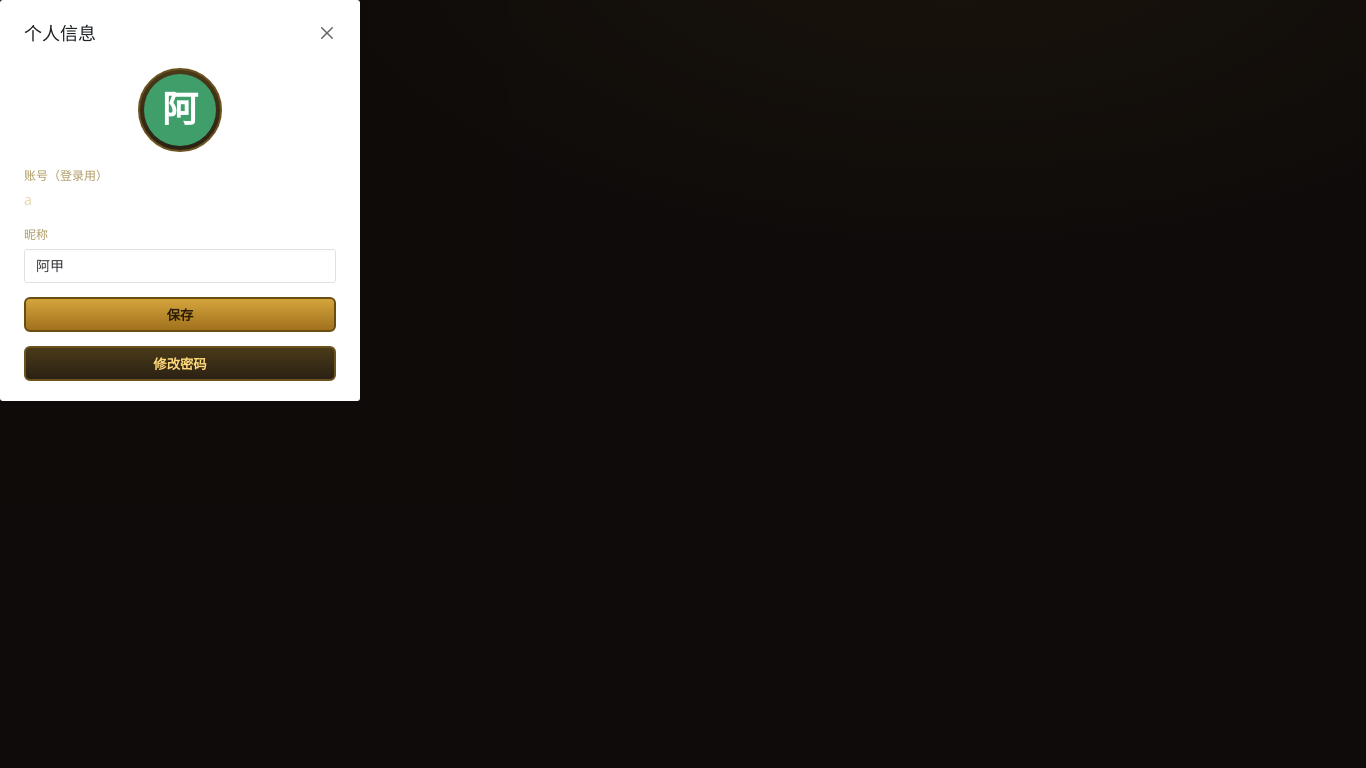
Test: ProfilePanel › 非法昵称不调接口并显示错误
Replace the text in the field with "带空格 名" at (180, 266), box [36, 249, 324, 283]
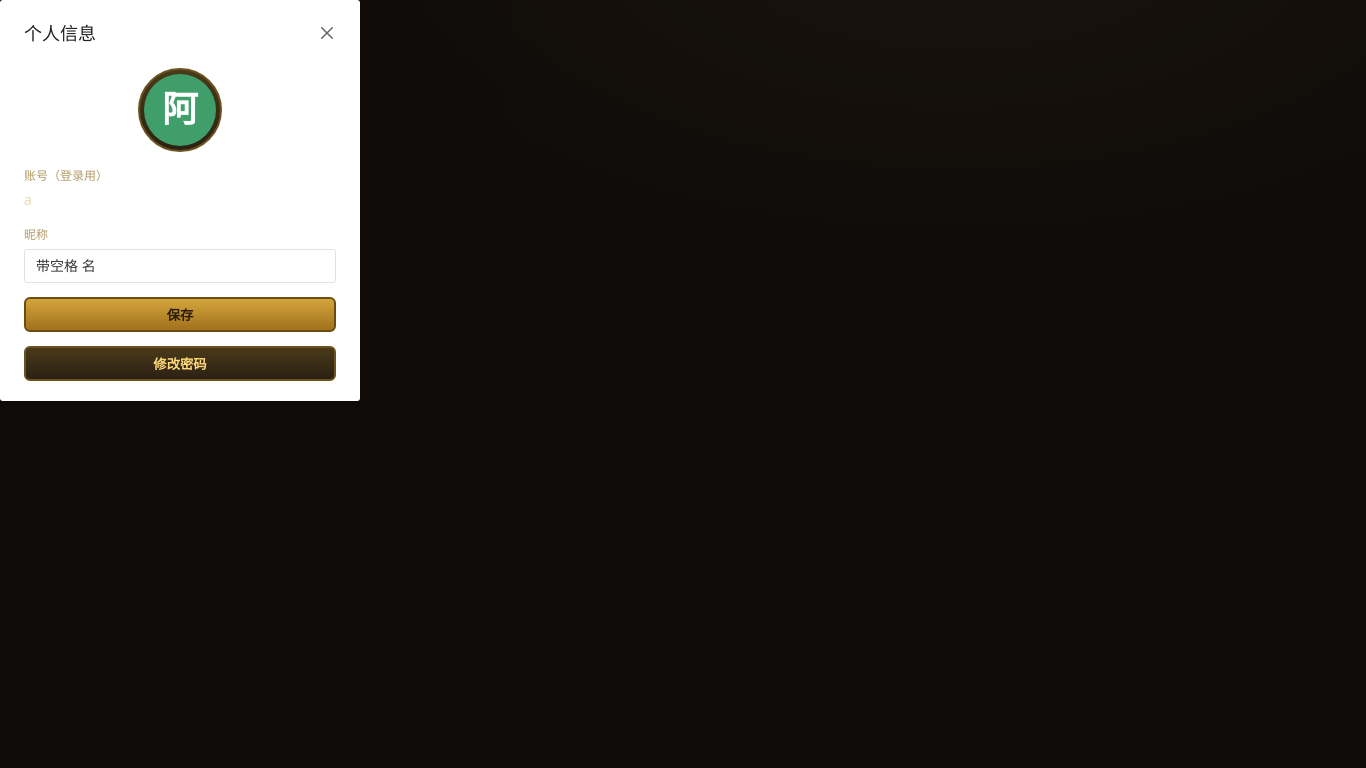
Click the button with class "save-nickname" at (180, 314), box [24, 297, 336, 332]
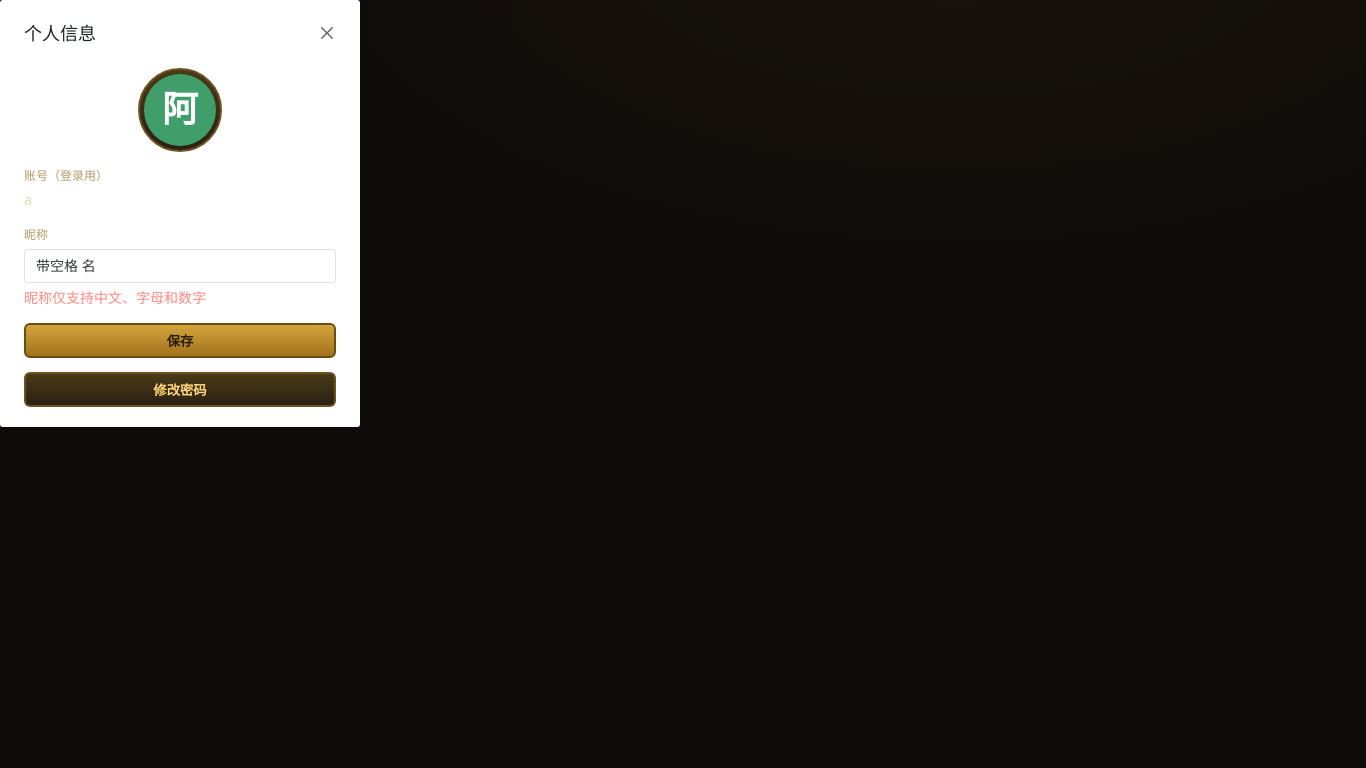
Now the text "昵称仅支持中文、字母和数字" is shown, box [24, 288, 206, 307]
